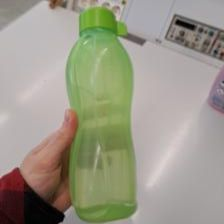bottle: (65, 8, 136, 221)
